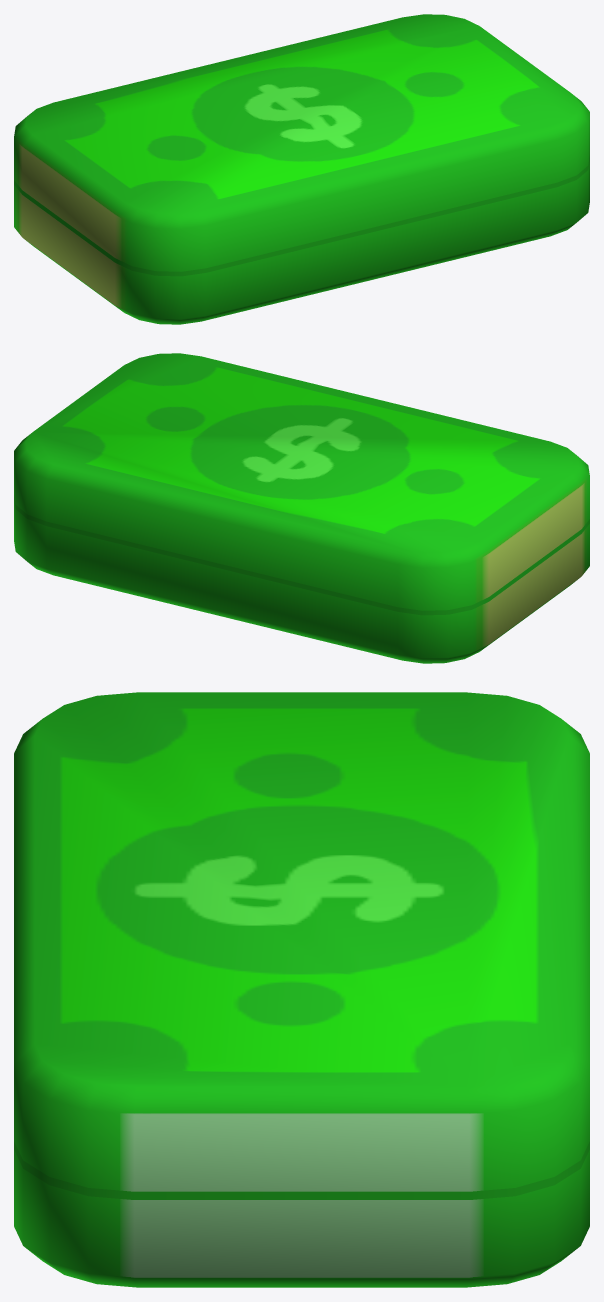
The model's file is moneyIcon.fbx.
The picture shows the model from 3 angles, top to bottom: view 1: azimuth 30°, elevation 25°; view 2: azimuth 150°, elevation 25°; view 3: azimuth 270°, elevation 25°; orthographic projection. The views are drawn at different scales.
Parts seen in each view (by area): view 1: Cube.039; view 2: Cube.039; view 3: Cube.039.
Boxes of the visible parts, x1,y1,x2,y2 form: Cube.039: (14,14,589,324); Cube.039: (14,353,589,663); Cube.039: (14,692,589,1287).
Bounding box in the file's own units: 1.71 × 0.3884 × 1.01.
